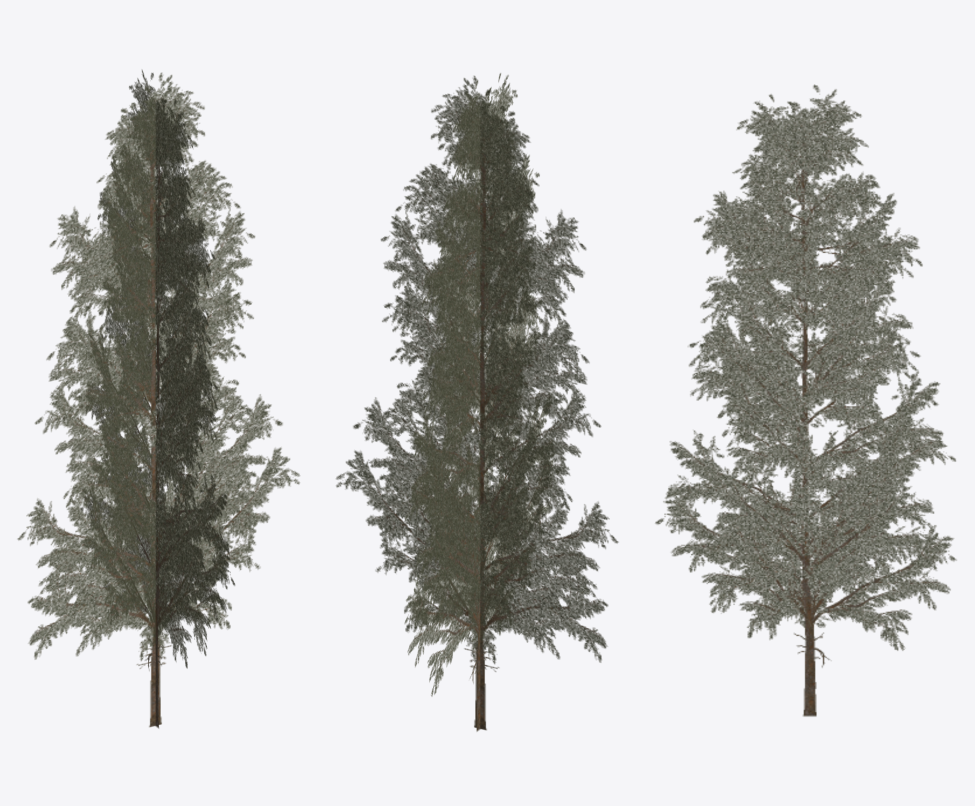
Rendered from CasuarinaEquisetifolia.glb.
3 renders of one model, left to right at view 1: azimuth 30°, elevation 25°; view 2: azimuth 150°, elevation 25°; view 3: azimuth 270°, elevation 25°, orthographic. The views are drawn at different scales.
Visible parts, largest first — view 1: mesh__mat_billboard_4; view 2: mesh__mat_billboard_4; view 3: mesh__mat_billboard_4.
Boxes of the visible parts, x1=… form: mesh__mat_billboard_4: x1=17, y1=70, x2=299, y2=728; mesh__mat_billboard_4: x1=336, y1=73, x2=618, y2=731; mesh__mat_billboard_4: x1=655, y1=84, x2=956, y2=716.
Bounding box in the file's own units: 9.33 × 20.35 × 8.92.
1 material, 1 textured.
